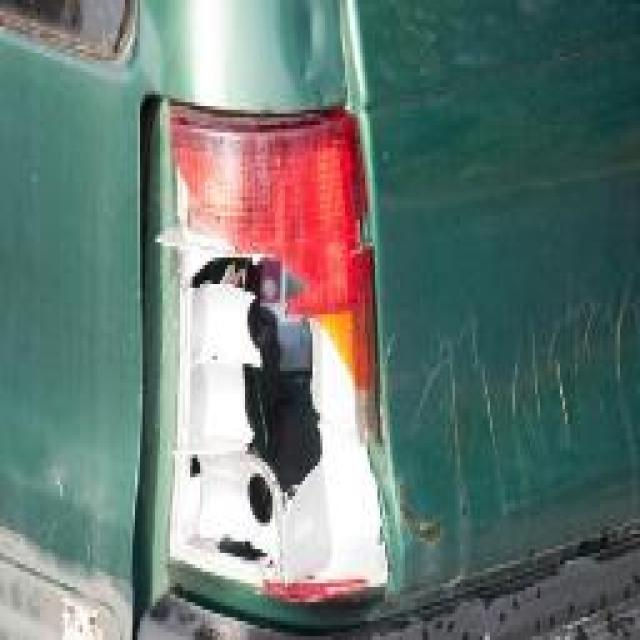Dickey: (388, 273, 640, 515)
Light: (152, 98, 390, 602)
